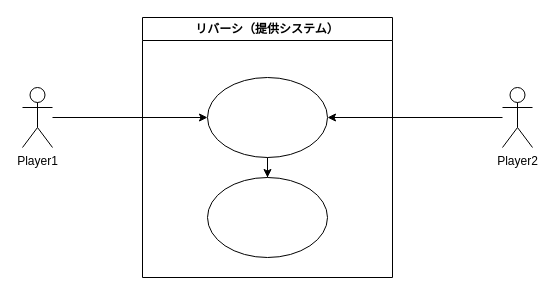
The diagram is 555 pixels wide and 295 high, and some of its shapes have lost their labels. The shapes that lost their labels are listed below. From the top down, each one's centre as x and y in pixels, then its label:
the point at 267,117: ゲーム盤上で互いに駒を配置
the point at 267,217: 勝敗を判定して表示
